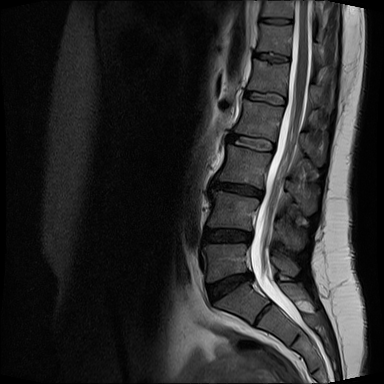Degenerative Disc Disease (DDD): (250, 48, 294, 69), (255, 14, 295, 28)
Lumbar Disc Bulge (LDB): (199, 261, 267, 310), (198, 217, 264, 252), (204, 171, 273, 202)
Normal IVD: (220, 125, 280, 157), (236, 83, 290, 112)
Spinal Stenosis (SS): (236, 259, 261, 295), (236, 222, 262, 252)
